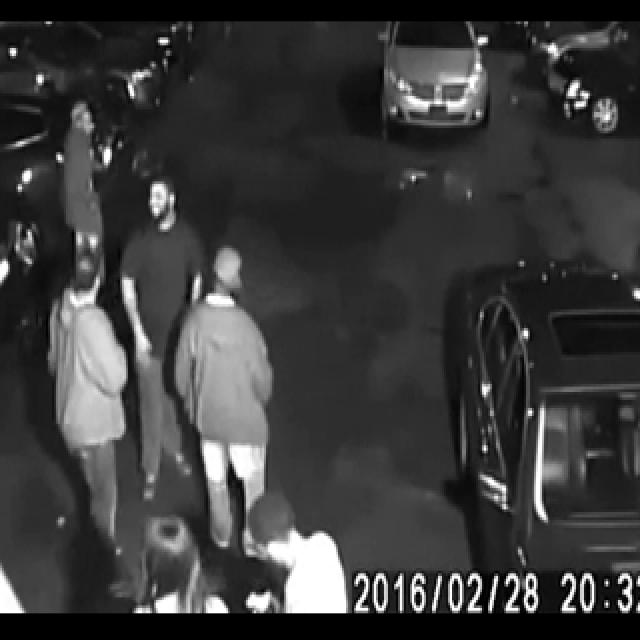shooting: (20, 160, 409, 639)
